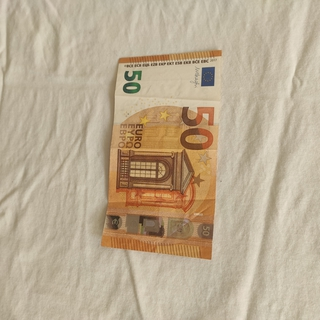50EUROFront: (100, 48, 222, 260)
